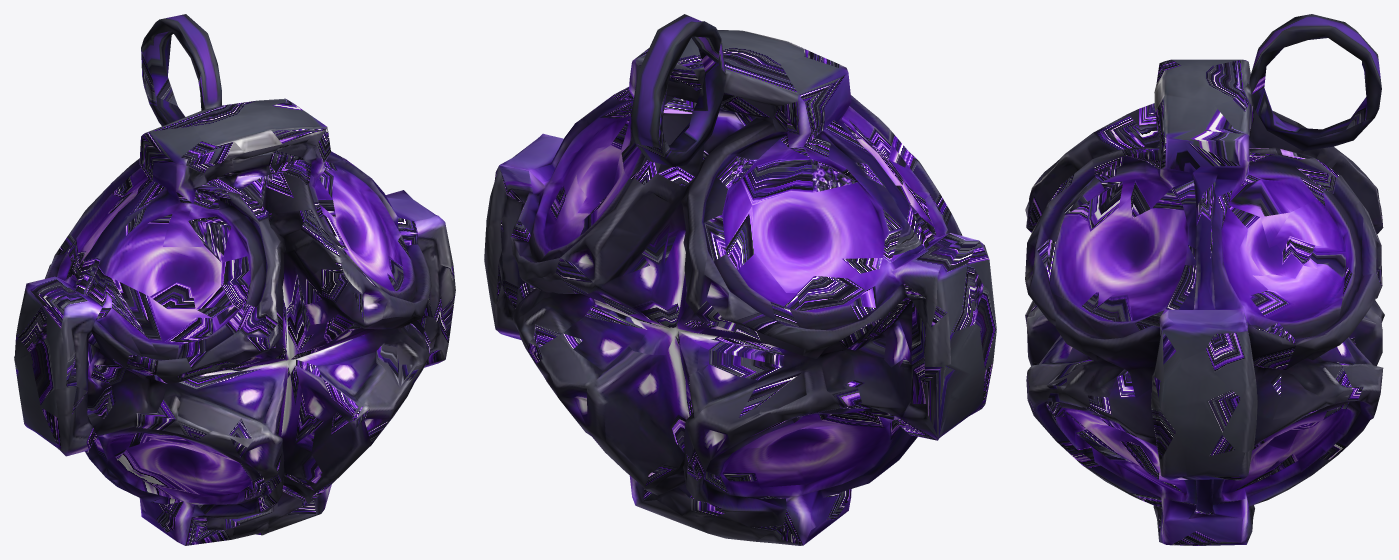
File: magnet.glb
3 renders of one model, left to right at view 1: azimuth 30°, elevation 25°; view 2: azimuth 150°, elevation 25°; view 3: azimuth 270°, elevation 25°, orthographic. The views are drawn at different scales.
Parts seen in each view (by area): view 1: tripo_node_3896afc8-c994-43a1-9eb1-6e802c190f1f; view 2: tripo_node_3896afc8-c994-43a1-9eb1-6e802c190f1f; view 3: tripo_node_3896afc8-c994-43a1-9eb1-6e802c190f1f.
Part boxes in pixels (<box>): tripo_node_3896afc8-c994-43a1-9eb1-6e802c190f1f: <box>14,14,455,545</box>; tripo_node_3896afc8-c994-43a1-9eb1-6e802c190f1f: <box>484,14,996,545</box>; tripo_node_3896afc8-c994-43a1-9eb1-6e802c190f1f: <box>1025,14,1384,545</box>.
Bounding box in the file's own units: 0.9115 × 1 × 0.6484.
1 material, 1 textured.
